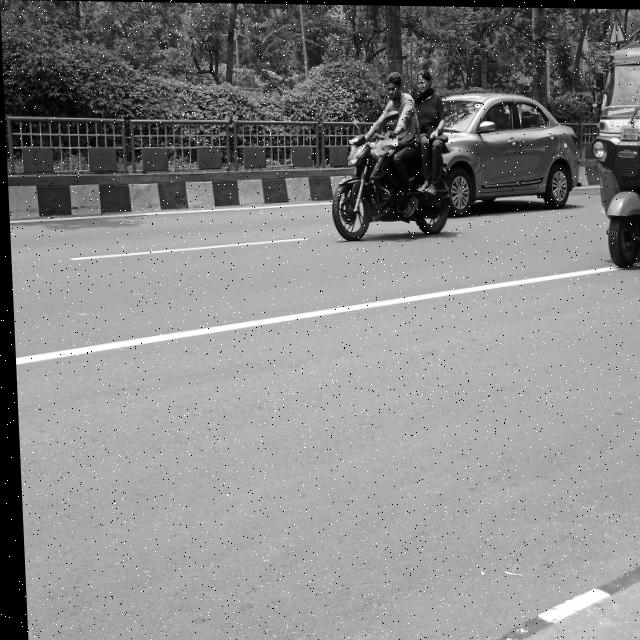bike: (309, 133, 478, 244)
car: (447, 95, 597, 208)
